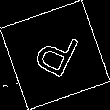P_SW: (28, 24, 82, 86)
